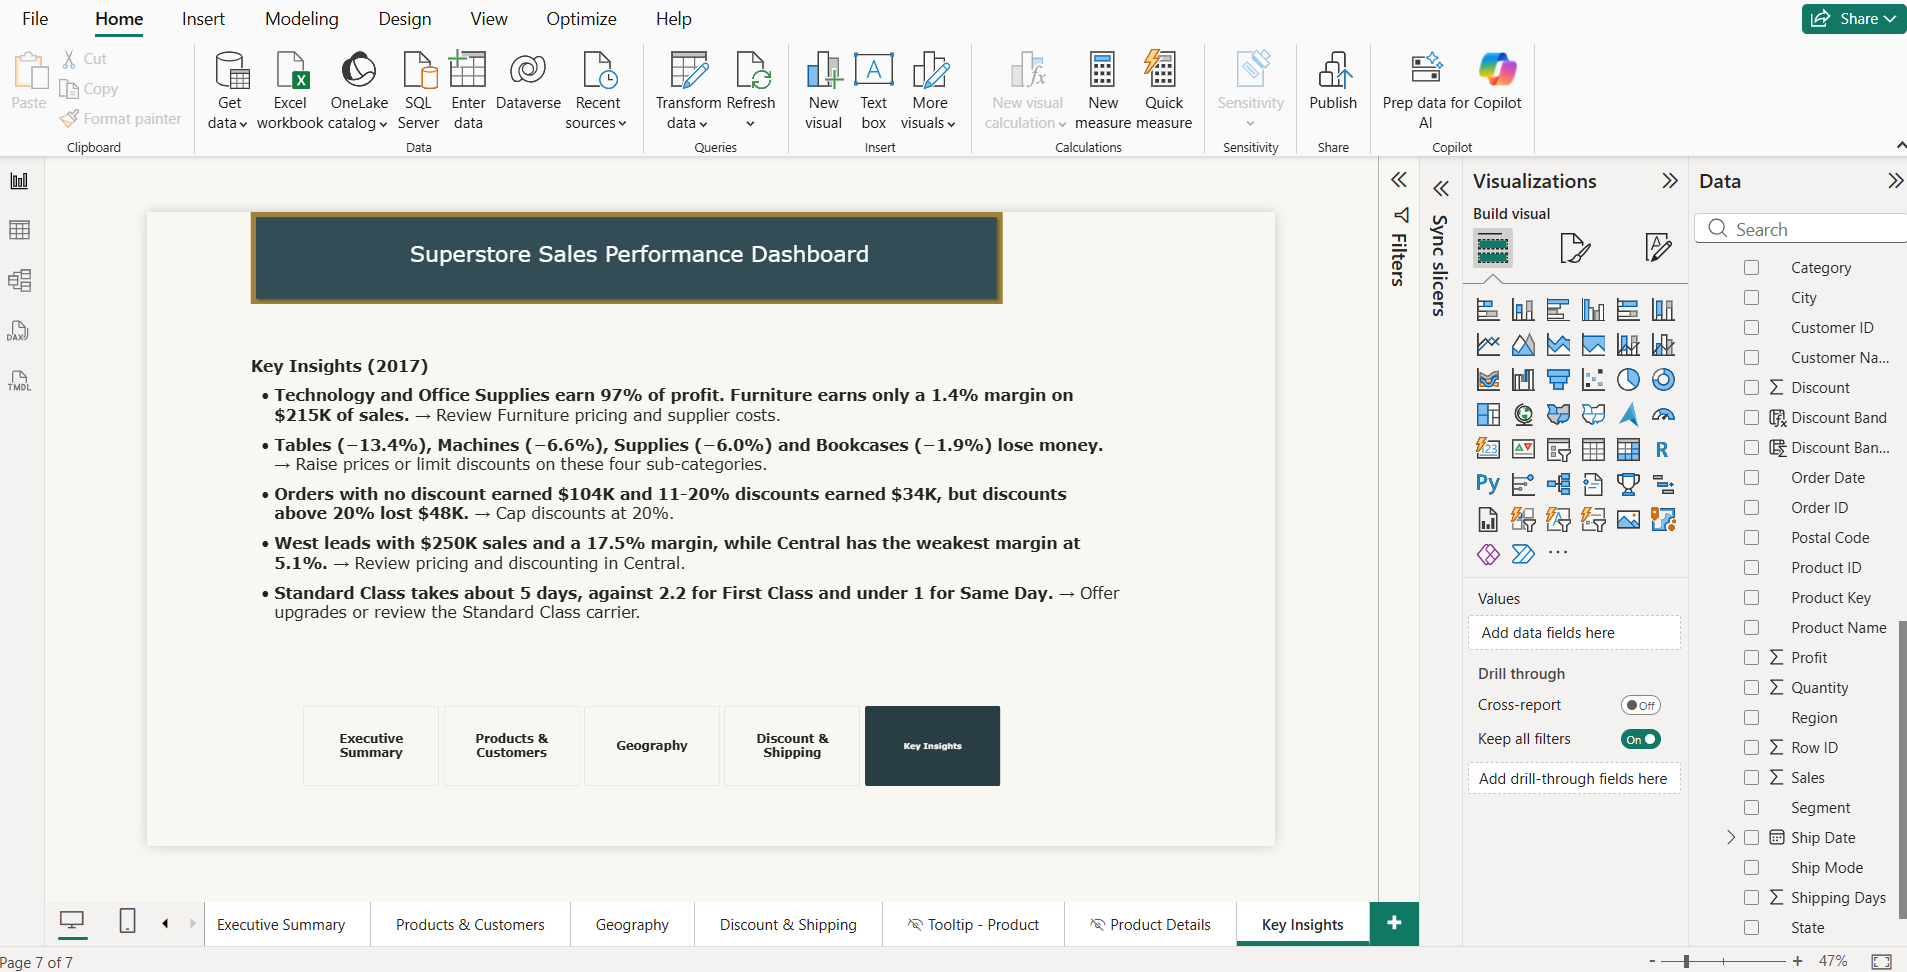

The page's visual inventory and layout, read from the dashboard file:
{"tool":"powerbi","page":{"name":"Key Insights","canvas":[1920,1080],"ordinal":6},"visuals":[{"type":"shape","box":[177.4,0,1278.5,156.5],"z":0,"group":"g1"},{"type":"pageNavigator","box":[265,841,1191.7,137.7],"z":1},{"type":"textbox","box":[177.4,244.2,1479.7,596.9],"z":2},{"type":"textbox","box":[264.2,45.9,1149.9,62.6],"z":1000,"group":"g1"},{"type":"group","id":"g1","title":"Group 1","box":[177.4,0,1278.5,156.5],"z":1001}]}

Visuals, with their boxes on the page's 1920x1080 design canvas (x1, y1, x2, y2). These are canvas units, not pixel positions in the 1907x972 screenshot, which may show the page scaled, cropped or inside an application window:
shape: Rect(177, 0, 1456, 156)
pageNavigator: Rect(265, 841, 1457, 979)
textbox: Rect(177, 244, 1657, 841)
textbox: Rect(264, 46, 1414, 108)
"Group 1" group: Rect(177, 0, 1456, 156)
